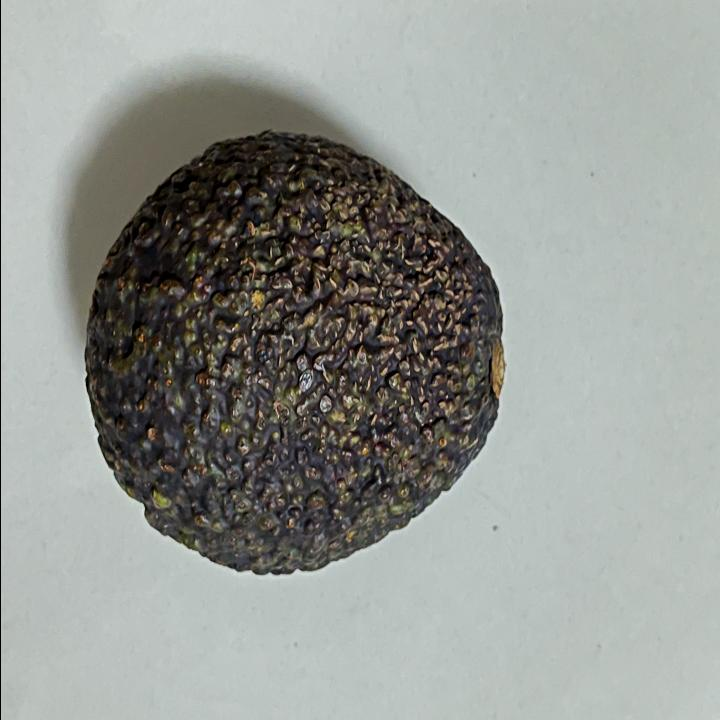Level2: (78, 121, 512, 586)
